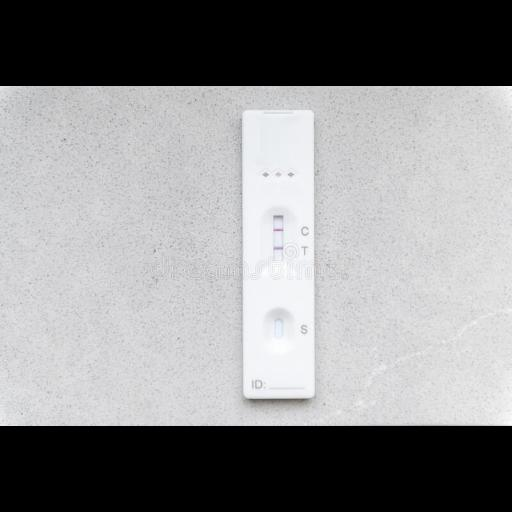Pos: (241, 108, 315, 396)
